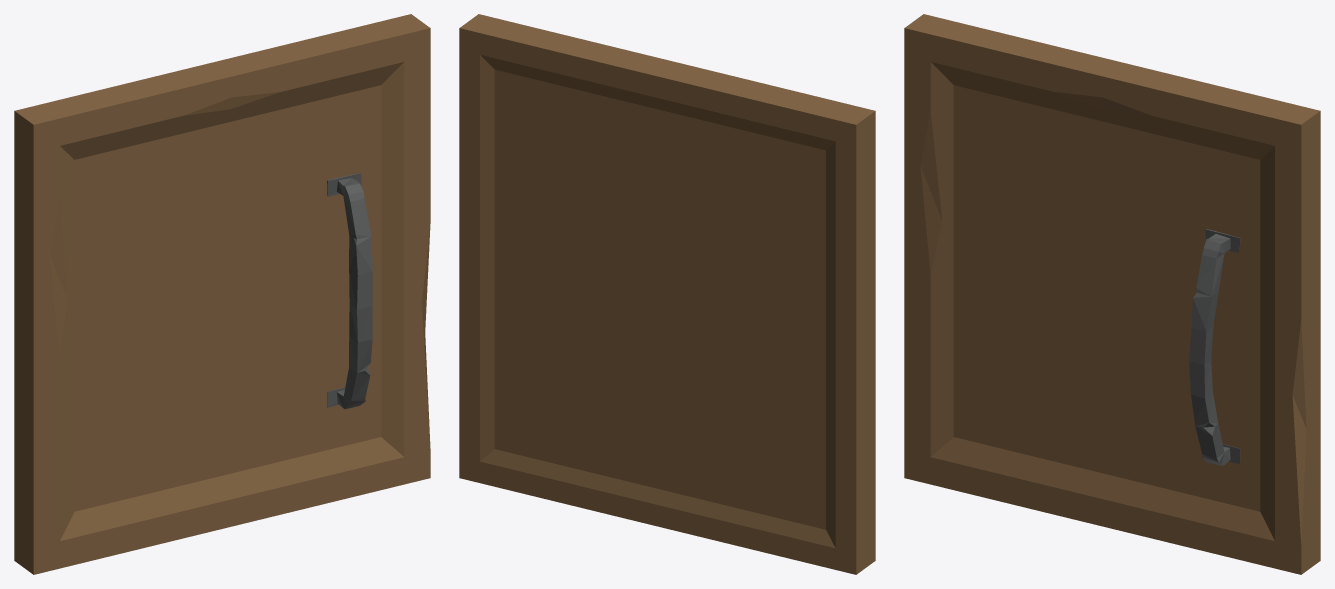
The model's file is SFHW_Roof_Shelving_001_Door_002.fbx.
3 views of the same model, side by side, from view 1: azimuth 30°, elevation 25°; view 2: azimuth 150°, elevation 25°; view 3: azimuth 330°, elevation 25° (orthographic).
Visible parts, largest first — view 1: SFHW_Roof_Shelving_001_Door_002; view 2: SFHW_Roof_Shelving_001_Door_002; view 3: SFHW_Roof_Shelving_001_Door_002.
Part boxes in pixels (box(x1,y1,x2,y2)): SFHW_Roof_Shelving_001_Door_002: box(14, 14, 430, 574); SFHW_Roof_Shelving_001_Door_002: box(459, 14, 875, 574); SFHW_Roof_Shelving_001_Door_002: box(904, 14, 1320, 574).
Bounding box in the file's own units: 70.64 × 76.57 × 11.92.
